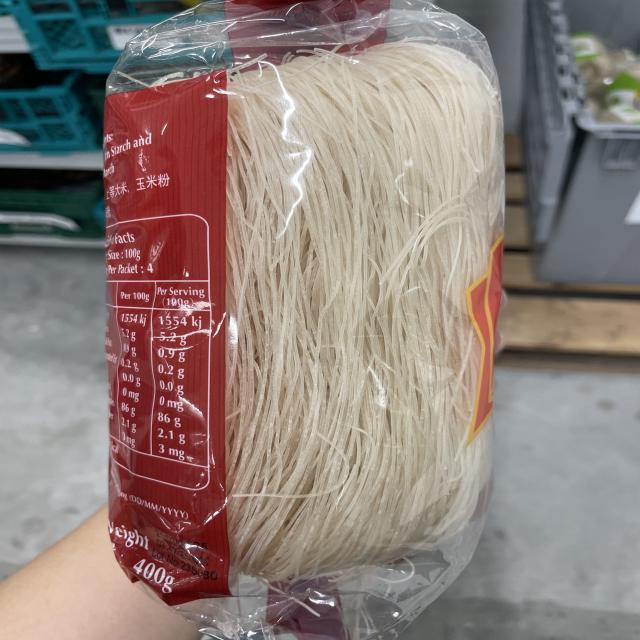object_name: (119, 43, 485, 603)
